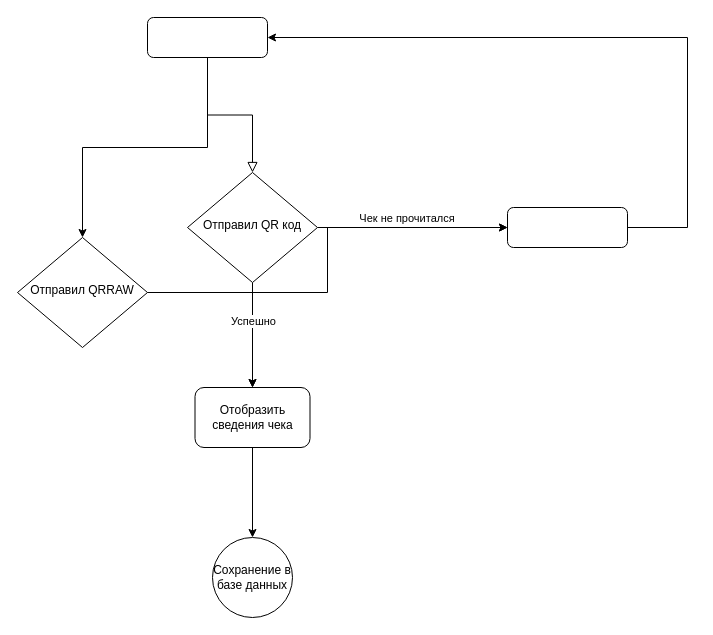
Image size: 713x635. Some labels were removed from this diagram. Each missing label, with the centre of its shape:
Отправьте повторно чек: point (567, 227)
Пользователь хочет добавить товары: point (207, 37)
